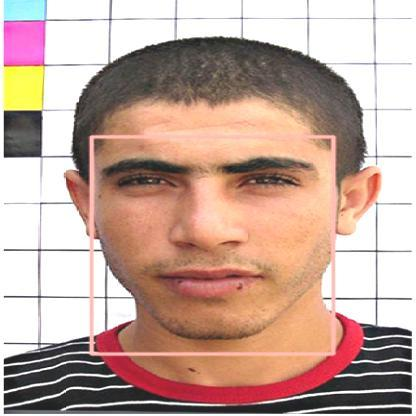without_mask: (91, 137, 333, 354)
